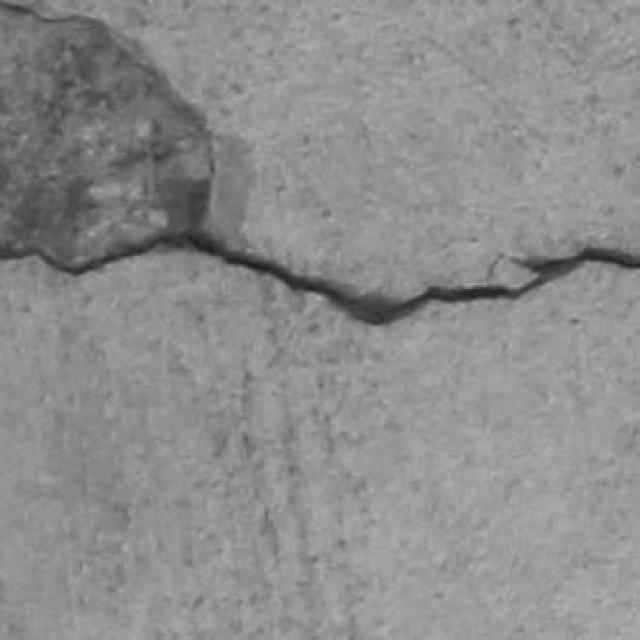crack: (0, 0, 213, 268), (39, 231, 639, 325)
